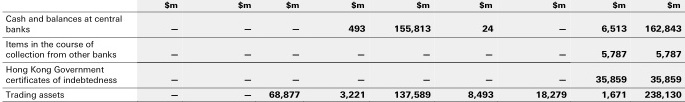column: (4, 1, 123, 102), (644, 1, 682, 102), (395, 1, 431, 102), (537, 1, 569, 102), (596, 1, 628, 102), (269, 1, 300, 102), (468, 1, 497, 102), (339, 1, 367, 102), (164, 1, 180, 102), (238, 1, 252, 102)
row: (1, 24, 685, 33), (1, 50, 685, 59), (1, 75, 685, 84), (1, 15, 685, 23), (1, 40, 685, 48), (1, 66, 685, 74), (1, 90, 685, 98), (1, 2, 685, 9)
